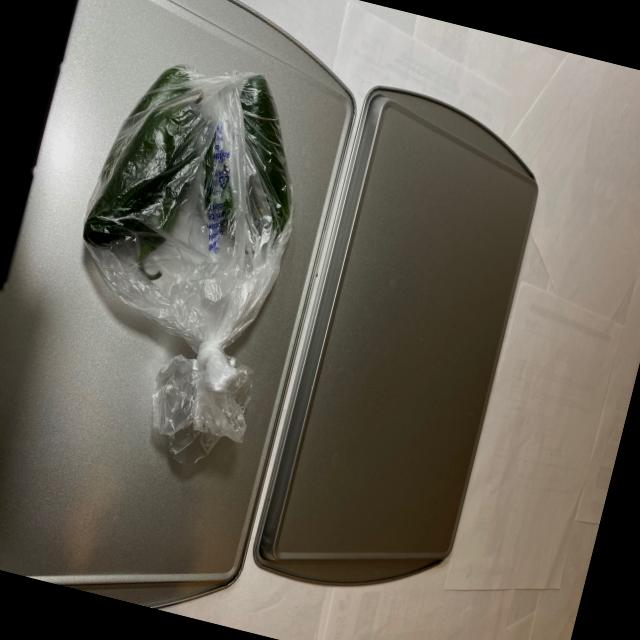chilli: (70, 41, 322, 316)
